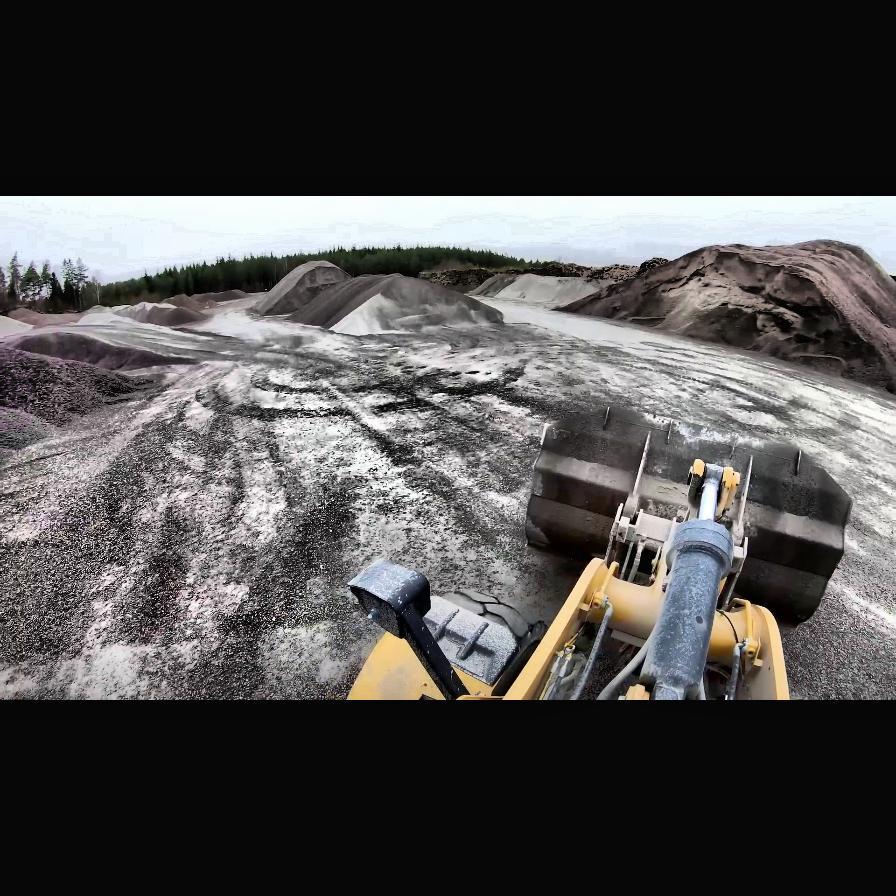anchor: (686, 459, 740, 521)
pile of gravel: (556, 238, 896, 404), (0, 346, 168, 442), (289, 272, 481, 336), (4, 329, 198, 373), (244, 260, 354, 318), (481, 272, 596, 306), (97, 300, 209, 328), (358, 272, 462, 302), (3, 306, 83, 328), (464, 274, 508, 296), (0, 314, 34, 338), (74, 311, 132, 325), (80, 304, 118, 314), (150, 302, 177, 310), (110, 304, 134, 312)
